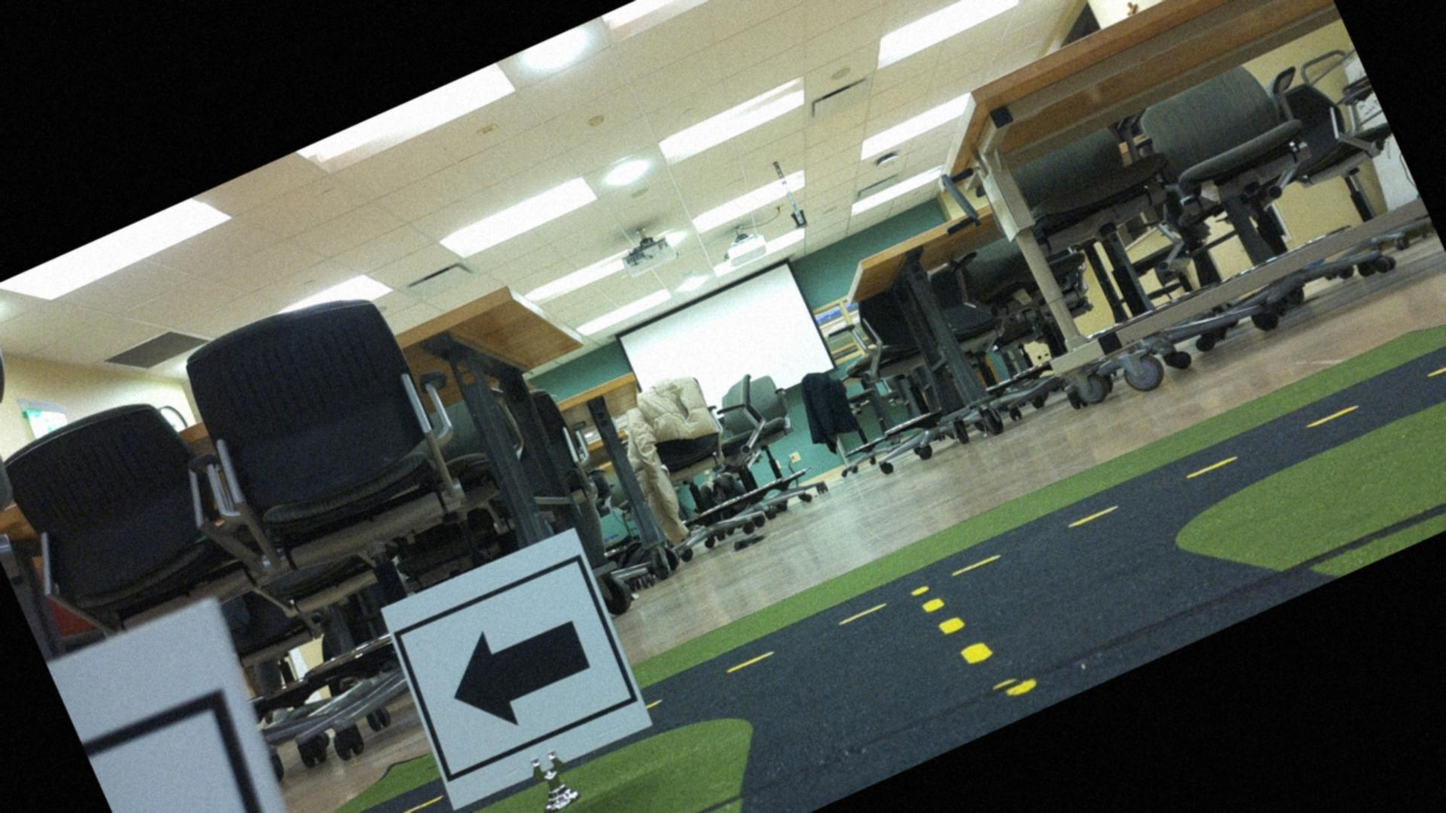turnleft: (381, 532, 648, 808)
yellowline: (727, 333, 1445, 686), (924, 589, 993, 675)
